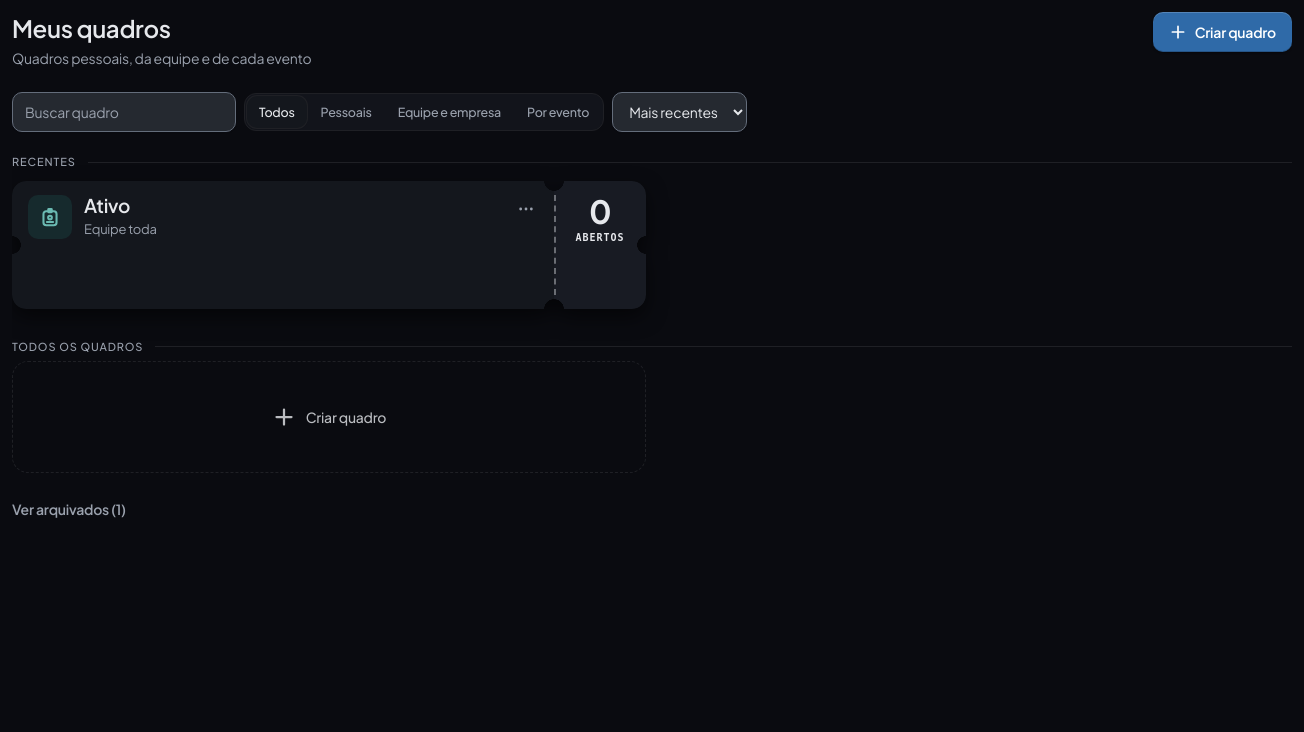
Scenario: tela Meus quadros › arquivados ficam atrás do link "Ver arquivados"
Expected: the link "Ativo" is shown, [84,195,130,216]
Expected: the link "Velho" is not shown
Click the button "Ver arquivados (1)" at (69, 509), box [12,489,126,529]
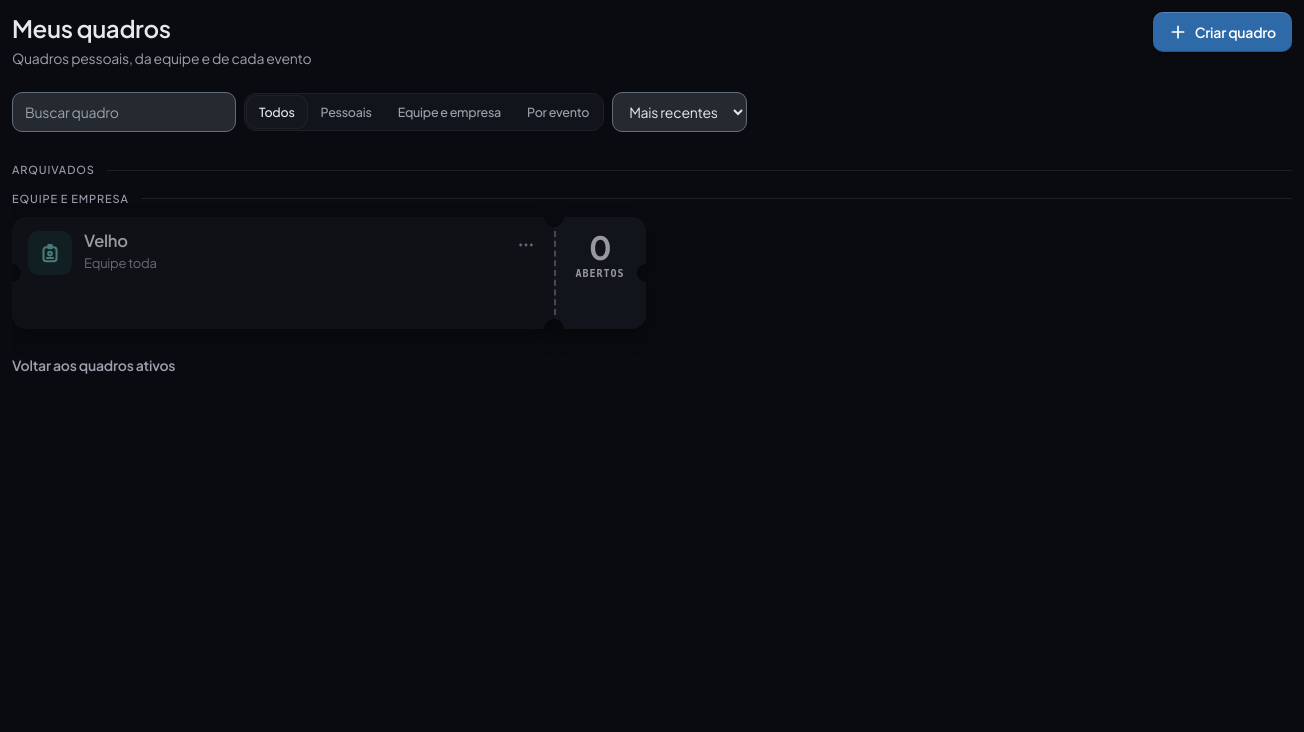
Expected: the link "Velho" is shown, [84,232,128,251]
Expected: the heading "Arquivados" is shown, [12,163,95,176]
